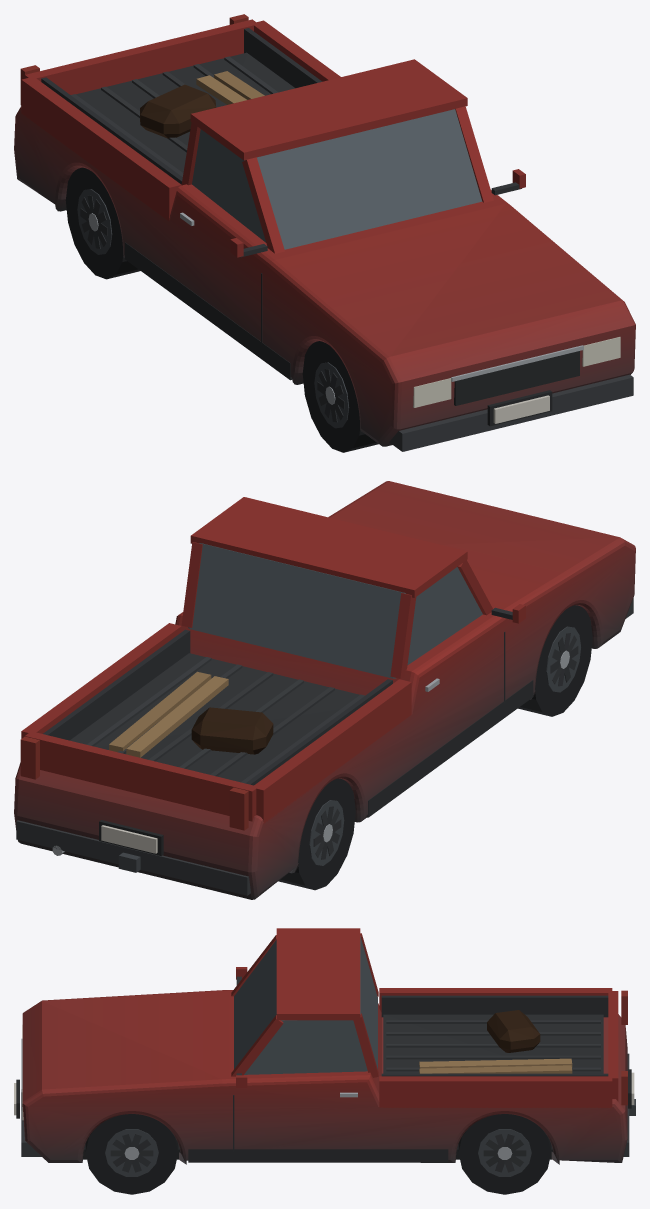
Rendered from family_pickup.glb.
The picture shows the model from 3 angles, top to bottom: view 1: azimuth 30°, elevation 25°; view 2: azimuth 150°, elevation 25°; view 3: azimuth 270°, elevation 25°; orthographic projection. The views are drawn at different scales.
Visible parts, largest first — view 1: family_pickup; view 2: family_pickup; view 3: family_pickup.
Boxes of the visible parts, <box> form: family_pickup: <box>14,14,635,452</box>; family_pickup: <box>14,481,635,899</box>; family_pickup: <box>14,928,635,1194</box>.
Bounding box in the file's own units: 1.48 × 1.12 × 3.51.
